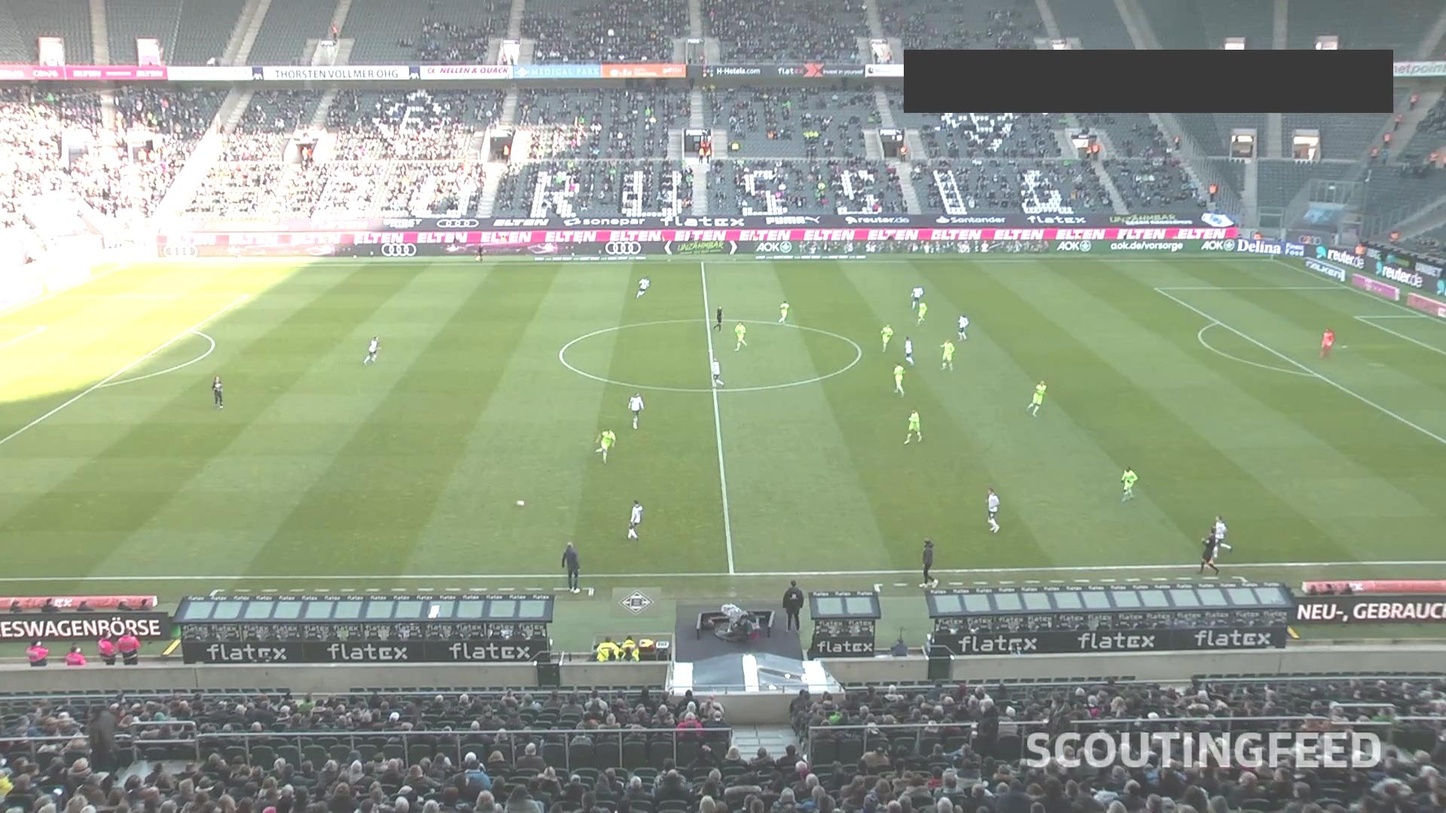ball: (514, 499, 524, 508)
goalkeeper: (1319, 327, 1335, 361), (211, 375, 225, 412)
player: (1212, 514, 1234, 563), (594, 427, 616, 466), (984, 486, 1001, 534), (1027, 379, 1047, 419), (904, 408, 924, 446), (627, 499, 644, 543), (1121, 463, 1139, 503), (627, 392, 645, 428), (939, 337, 956, 372), (709, 357, 726, 390), (892, 361, 906, 399), (734, 321, 749, 354), (365, 335, 381, 365), (902, 335, 915, 367), (881, 321, 894, 353), (635, 275, 652, 298), (778, 299, 792, 326), (957, 314, 969, 342), (911, 285, 924, 310), (917, 302, 928, 329)
refree: (1198, 526, 1219, 577), (712, 305, 724, 333), (476, 243, 487, 264)
